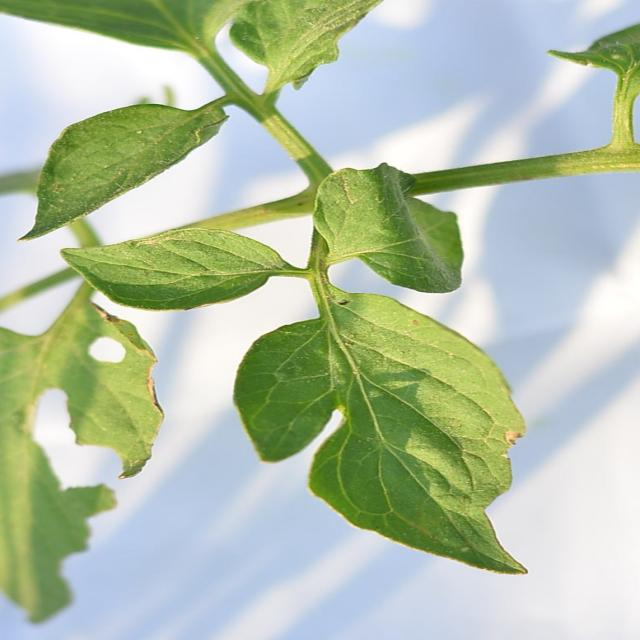infected: (68, 302, 182, 430)
